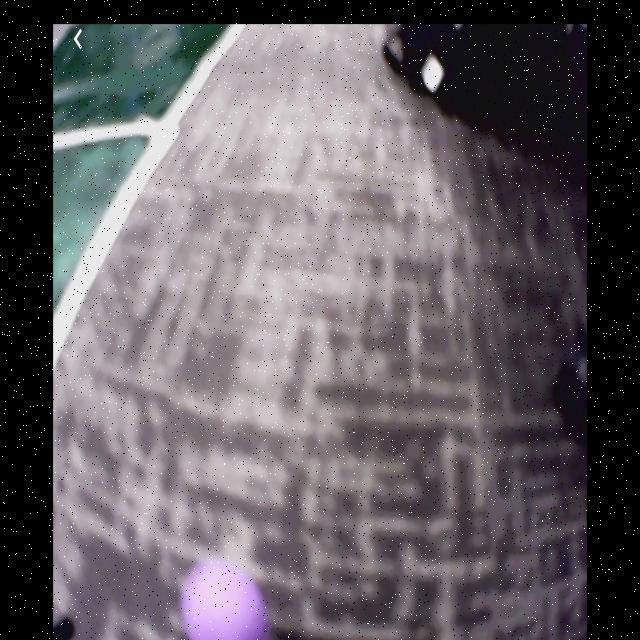ball: (183, 562, 263, 640)
